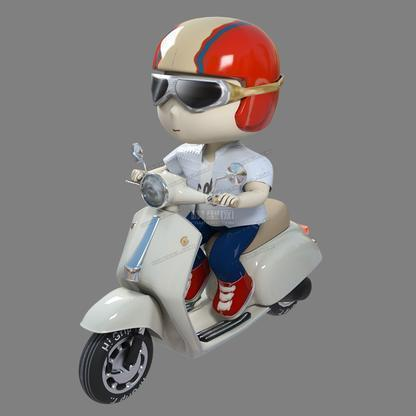target: (69, 16, 325, 403)
